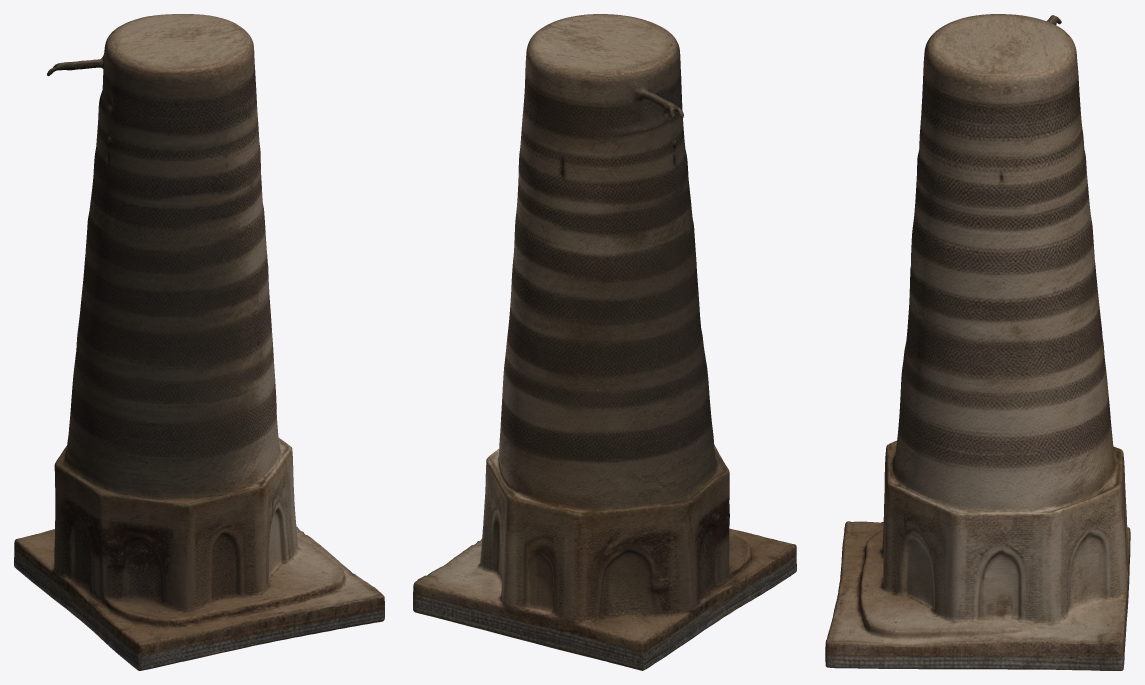
The model's file is burana.glb.
3 views of the same model, side by side, from view 1: azimuth 30°, elevation 25°; view 2: azimuth 150°, elevation 25°; view 3: azimuth 270°, elevation 25° (orthographic). The views are drawn at different scales.
Visible parts, largest first — view 1: world; view 2: world; view 3: world.
Part boxes in pixels (x1,y1,x2,y2): world: (14,14,384,670); world: (413,14,796,670); world: (825,14,1130,670).
Bounding box in the file's own units: 0.4661 × 1 × 0.49.
1 material, 1 textured.
